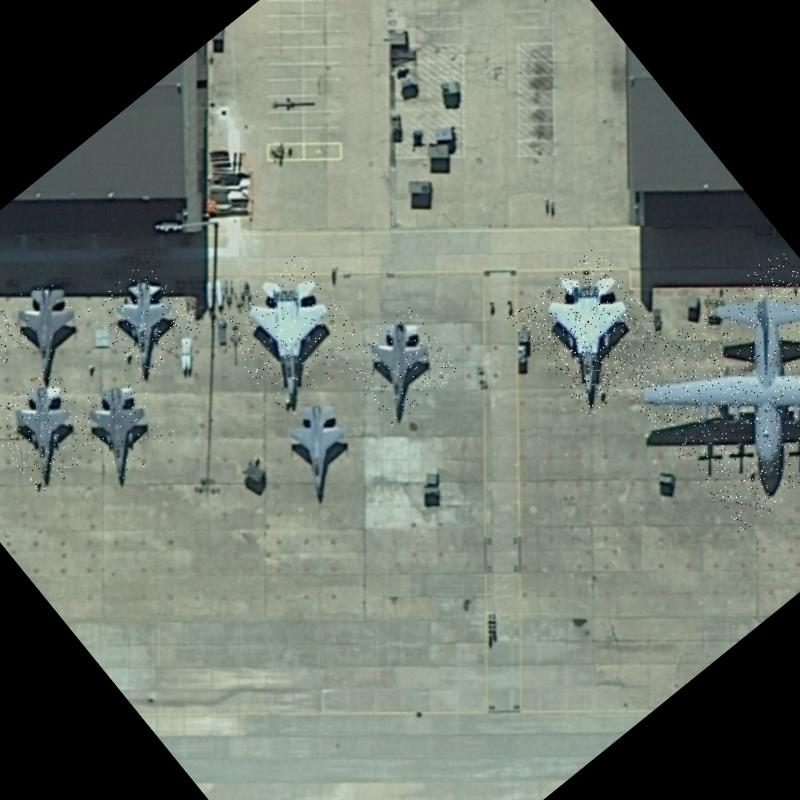A13: (506, 246, 677, 418), (210, 252, 375, 419)
A2: (614, 245, 800, 534)
A5: (336, 300, 464, 428), (260, 382, 384, 508), (60, 362, 183, 488), (84, 258, 204, 380), (0, 366, 108, 496), (0, 266, 107, 389), (0, 264, 32, 392)
